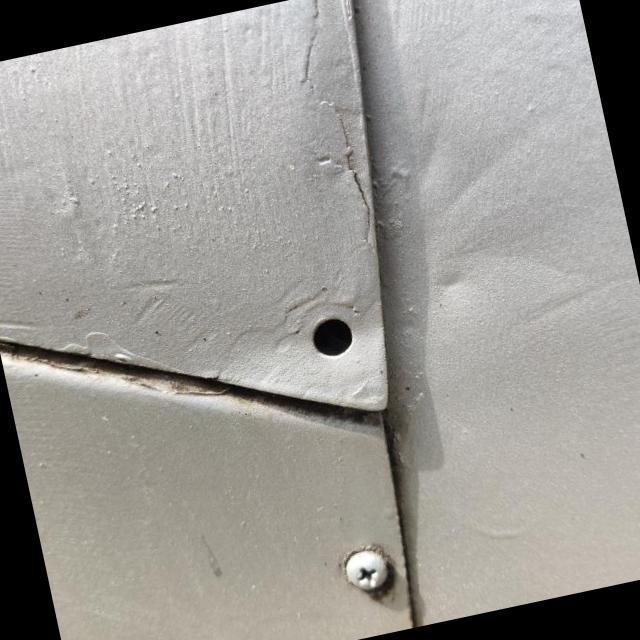Fastener Damage: (264, 266, 413, 412)
